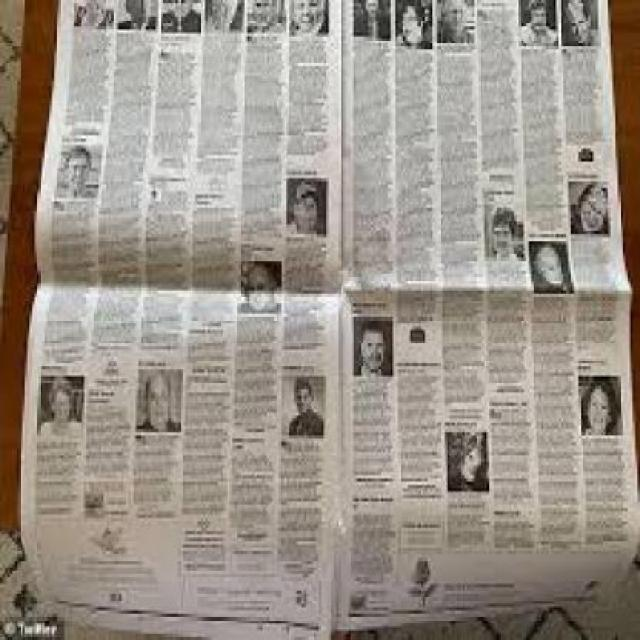PAPER: (17, 1, 635, 607)
